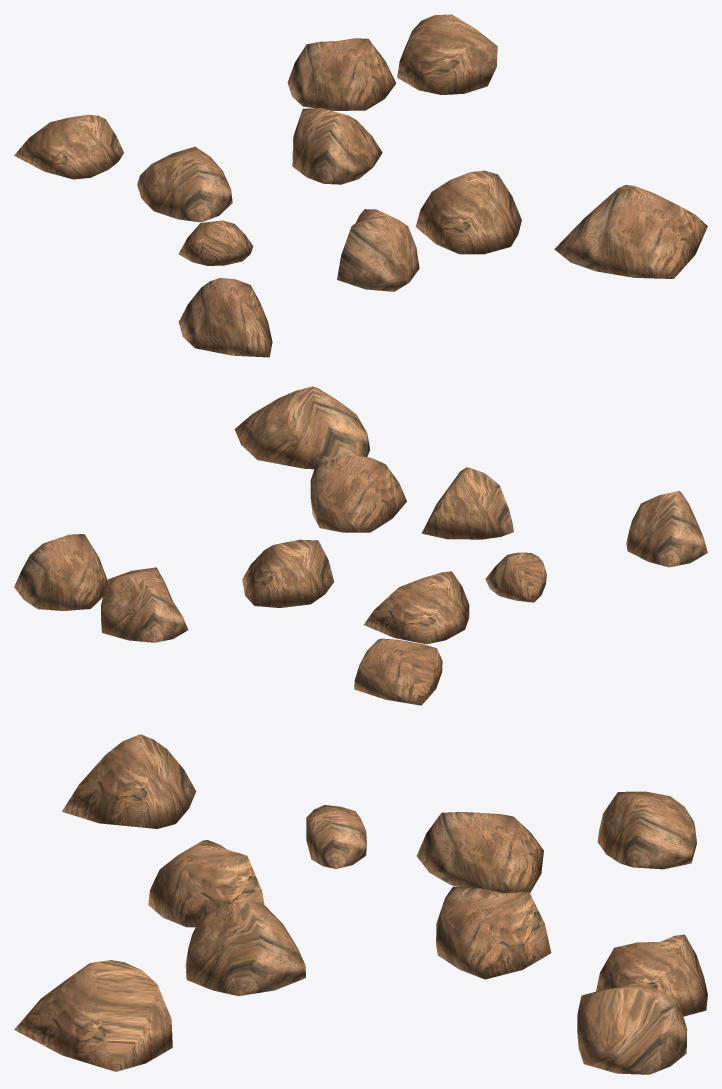
The model's file is rock_tatt_bensmesa_pebbles_a1_l0.fbx.
3 views of the same model, one above another, from view 1: azimuth 30°, elevation 25°; view 2: azimuth 150°, elevation 25°; view 3: azimuth 270°, elevation 25° (orthographic). The views are drawn at different scales.
Parts seen in each view (by area): view 1: mesh_node; view 2: mesh_node; view 3: mesh_node.
Part boxes in pixels (<box>): mesh_node: <box>14,14,707,357</box>; mesh_node: <box>14,386,707,705</box>; mesh_node: <box>14,734,707,1074</box>.
Bounding box in the file's own units: 1.17 × 0.1361 × 1.18.
